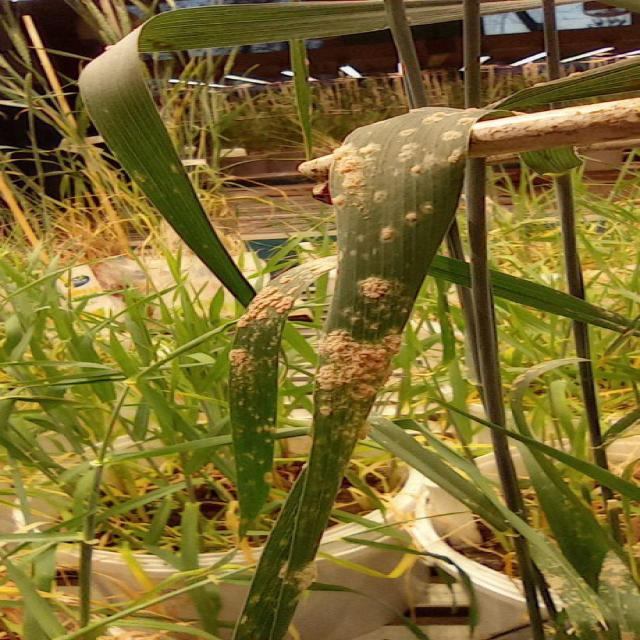wheat-powdery-mildew: (317, 328, 401, 417), (330, 143, 391, 219), (236, 277, 306, 329), (408, 145, 463, 174), (228, 348, 259, 394), (599, 550, 632, 590), (355, 275, 399, 299), (292, 561, 319, 591), (540, 571, 567, 597), (421, 111, 470, 124), (393, 143, 422, 162), (376, 226, 399, 244), (416, 204, 441, 216), (355, 420, 370, 440), (253, 425, 277, 437), (441, 130, 461, 142), (454, 116, 479, 125), (277, 561, 288, 579), (395, 128, 418, 136), (402, 213, 418, 222), (263, 471, 272, 482)
